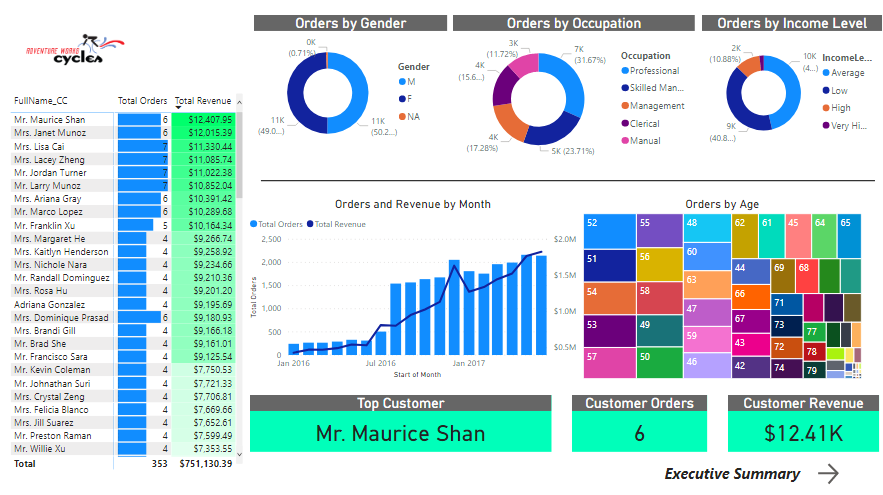

This screenshot's page, from the dashboard's own definition file:
{"tool":"powerbi","page":{"name":"Customer Detail","canvas":[1280,720],"ordinal":2},"visuals":[{"type":"pivotTable","fields":{"Values":["AW_Sales.Total Orders","AW_Sales.Total Revenue_Measure"],"Rows":["AW_Customer_Lookup.FullName_CC"]},"box":[14.4,132.7,344.8,552.6],"z":0},{"type":"image","box":[37.5,15.9,152.9,116.9],"z":1000},{"type":"donutChart","title":"Orders by Gender","fields":{"Y":["AW_Sales.Total Orders"],"Category":["AW_Customer_Lookup.Gender"]},"box":[371.2,25.2,278.8,201.6],"z":2000},{"type":"donutChart","title":"Orders by Occupation","fields":{"Y":["AW_Sales.Total Orders"],"Category":["AW_Customer_Lookup.Occupation"]},"box":[658.5,25.2,349.4,220.1],"z":3000},{"type":"donutChart","title":"Orders by Income Level","fields":{"Y":["AW_Sales.Total Orders"],"Category":["AW_Customer_Lookup.IncomeLevel"]},"box":[1018,25.2,260.4,201.6],"z":4000},{"type":"lineClusteredColumnComboChart","title":"Orders and Revenue by Month","fields":{"Y":["AW_Sales.Total Orders"],"Y2":["AW_Sales.Total Revenue"],"Category":["AW_Calender_Lookup.Start of Month"]},"box":[359.3,287.1,481.9,266.9],"z":5000},{"type":"treemap","title":"Orders by Age","fields":{"Values":["AW_Sales.Total Orders"],"Group":["AW_Customer_Lookup.Current Age"]},"box":[841.2,287.1,411.2,266.9],"z":6000},{"type":"card","title":"Top Customer","fields":{"Values":["AW_Customer_Lookup.FullName"]},"box":[364.5,572.8,435.1,82.3],"z":7000},{"type":"card","title":"Customer Orders","fields":{"Values":["AW_Sales.Total Orders"]},"box":[829.8,572.8,194.9,82.3],"z":8000},{"type":"card","title":"Customer Revenue","fields":{"Values":["AW_Sales.Total Revenue"]},"box":[1054.9,572.8,218.4,82.3],"z":9000},{"type":"textbox","box":[957.5,666.9,221.7,40.3],"z":10000},{"type":"actionButton","box":[1179.2,666.9,100.8,40.3],"z":11000},{"type":"basicShape","box":[370.8,226.5,906.1,73.6],"z":11001}]}

Visuals, with their boxes in screenshot pixels (x1, y1, x2, y2), scaled from the page's 1280x720 canvas onto the 883x495 screenshot:
pivotTable - AW_Sales.Total Orders x AW_Sales.Total Revenue_Measure: 10, 91, 248, 471
image: 26, 11, 131, 91
"Orders by Gender" donutChart: 256, 17, 448, 156
"Orders by Occupation" donutChart: 454, 17, 695, 169
"Orders by Income Level" donutChart: 702, 17, 882, 156
"Orders and Revenue by Month" lineClusteredColumnComboChart: 248, 197, 580, 381
"Orders by Age" treemap: 580, 197, 864, 381
"Top Customer" card: 251, 394, 552, 450
"Customer Orders" card: 572, 394, 707, 450
"Customer Revenue" card: 728, 394, 878, 450
textbox: 661, 458, 813, 486
actionButton: 813, 458, 882, 486
basicShape: 256, 156, 881, 206
